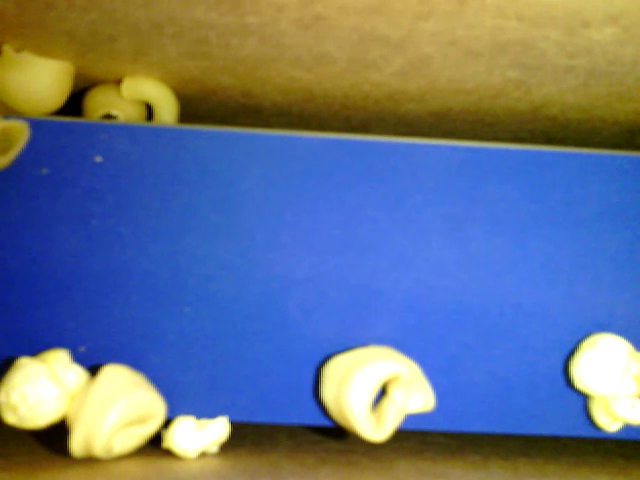elbow: (119, 73, 178, 126)
shell: (1, 39, 77, 121), (80, 78, 152, 121)
tortellini: (317, 343, 435, 444), (66, 362, 170, 459)
